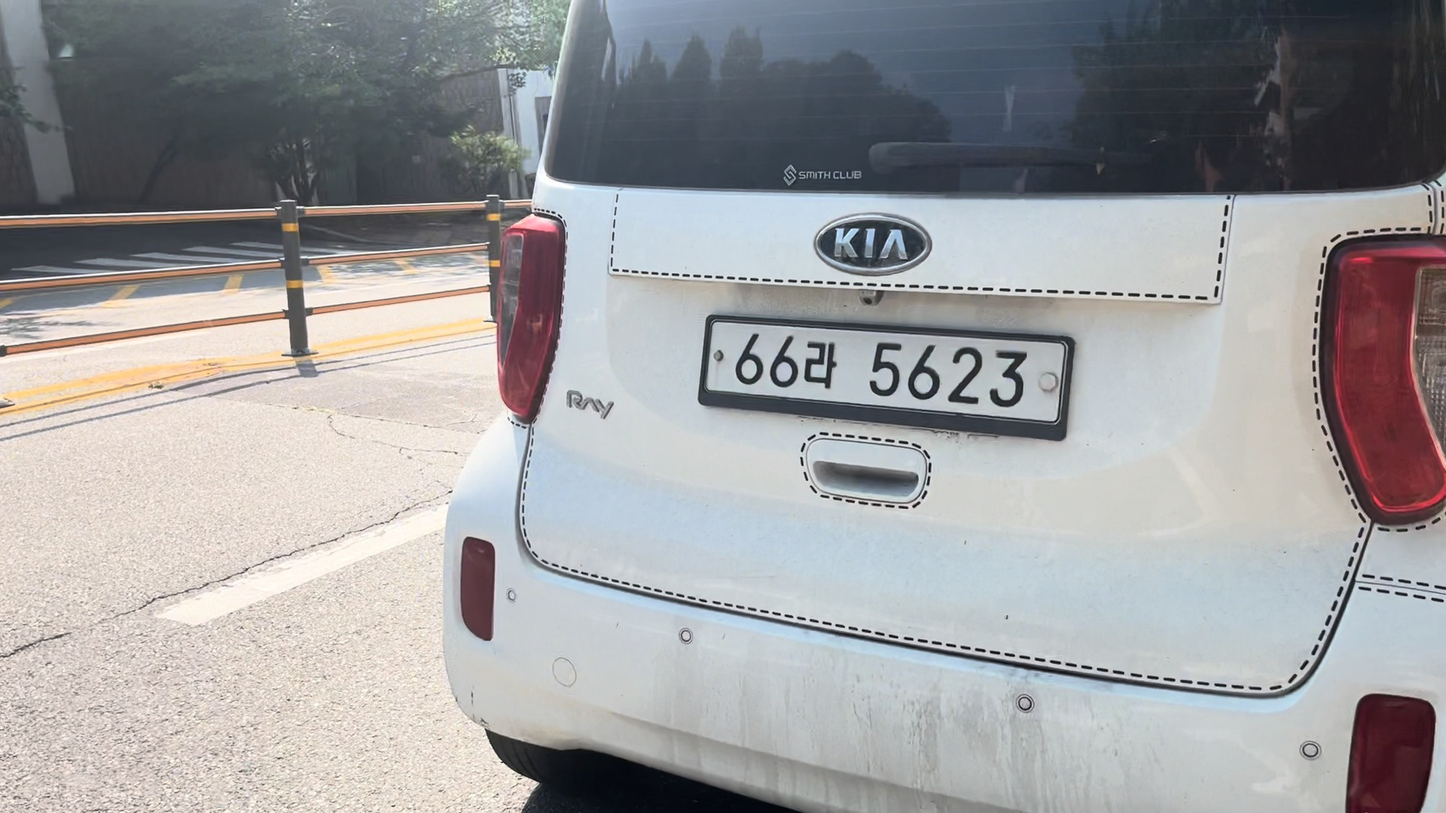car_emblem: (815, 215, 931, 275)
license_plate: (699, 316, 1073, 440)
tail_light: (1322, 241, 1445, 524), (495, 215, 564, 422), (1347, 696, 1435, 812), (459, 537, 495, 641)
